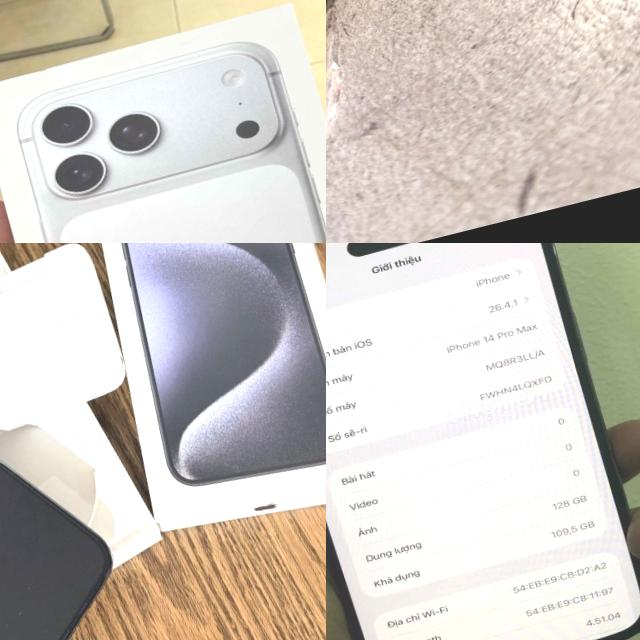gen_14: (326, 243, 640, 640)
gen_15: (0, 298, 151, 640), (326, 0, 624, 96)
gen_17: (0, 29, 326, 243)
